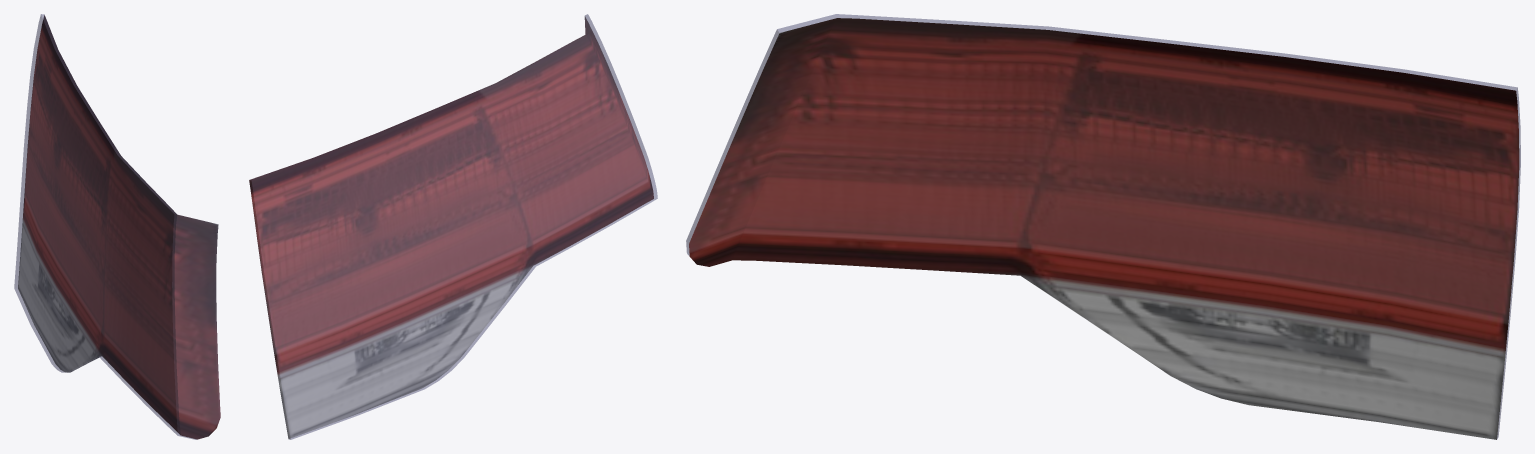
The picture shows the model from 3 angles, left to right: view 1: azimuth 30°, elevation 25°; view 2: azimuth 150°, elevation 25°; view 3: azimuth 270°, elevation 25°; orthographic projection. The views are drawn at different scales.
Visible parts, largest first — view 1: H612_541D_L_1_DTaSI_H612_541D_L, H612_541D_L_H612_541D_L_2_N; view 2: H612_541D_L_1_DTaSI_H612_541D_L, H612_541D_L_H612_541D_L_2_N; view 3: H612_541D_L_H612_541D_L_2_N, H612_541D_L_1_DTaSI_H612_541D_L.
Boxes of the visible parts, <box> form: H612_541D_L_1_DTaSI_H612_541D_L: <box>14,14,220,439</box>; H612_541D_L_H612_541D_L_2_N: <box>18,15,220,439</box>; H612_541D_L_1_DTaSI_H612_541D_L: <box>249,14,657,439</box>; H612_541D_L_H612_541D_L_2_N: <box>249,16,653,438</box>; H612_541D_L_H612_541D_L_2_N: <box>689,18,1519,439</box>; H612_541D_L_1_DTaSI_H612_541D_L: <box>686,14,1520,438</box>.
Size of the model in its own units: 14.06 by 24.84 by 50.26.
